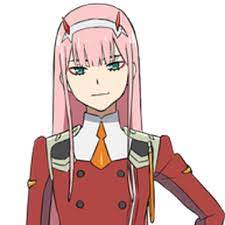zeroTwo: (47, 2, 143, 112)
